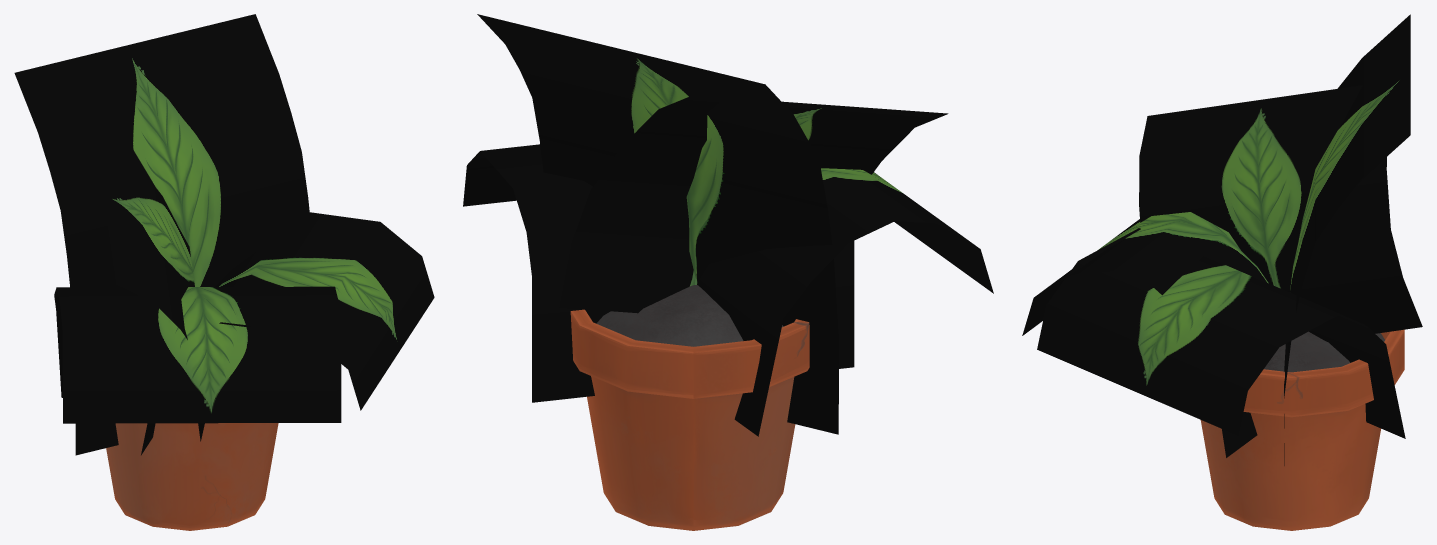
File: flowerPot.glb
The picture shows the model from 3 angles, left to right: view 1: azimuth 30°, elevation 25°; view 2: azimuth 150°, elevation 25°; view 3: azimuth 270°, elevation 25°; orthographic projection. The views are drawn at different scales.
Parts seen in each view (by area): view 1: Plane.003, Cylinder; view 2: Plane.003, Cylinder; view 3: Plane.003, Cylinder.
Boxes of the visible parts, left/top/right/bottom form: Plane.003: left=14, top=14, right=434, bottom=455; Cylinder: left=106, top=423, right=278, bottom=530; Plane.003: left=463, top=14, right=993, bottom=436; Cylinder: left=570, top=285, right=809, bottom=530; Plane.003: left=1022, top=14, right=1422, bottom=465; Cylinder: left=1200, top=329, right=1404, bottom=530.
Size of the model in its own units: 0.4607 by 0.4456 by 0.3808.
3 materials, 3 textured.
